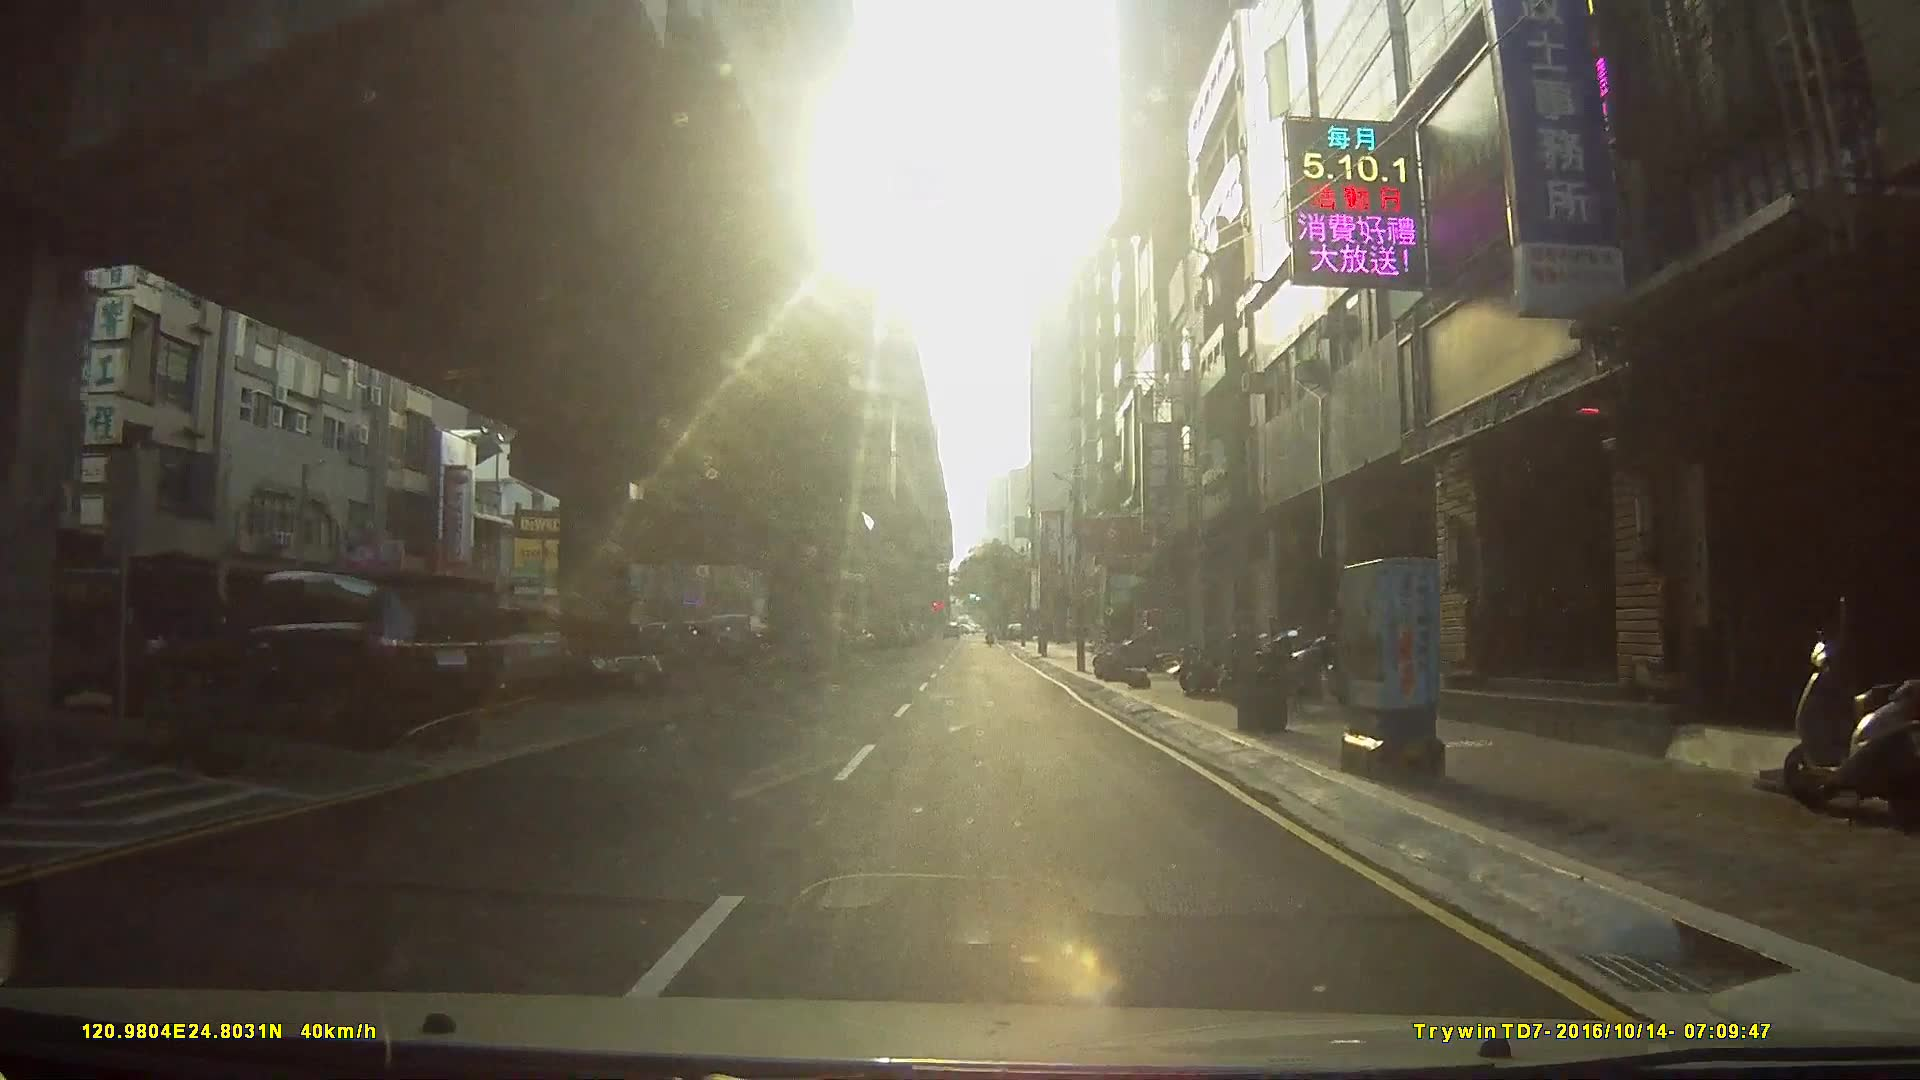vehicle: (161, 567, 505, 745), (28, 563, 240, 717), (414, 605, 574, 702), (514, 620, 663, 699)
